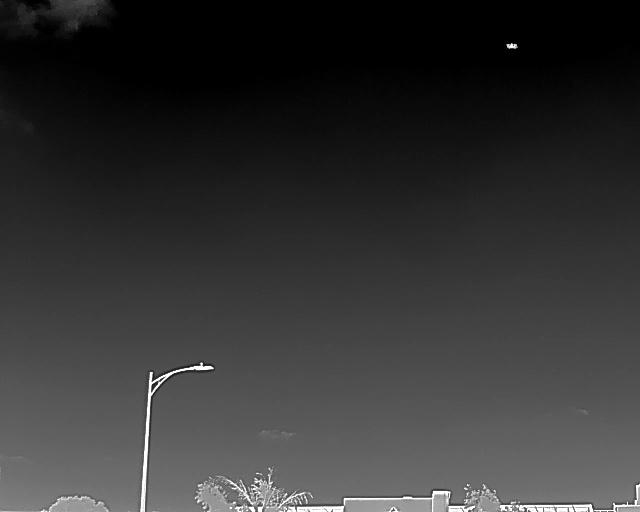fpv-drone: (506, 43, 517, 49)
